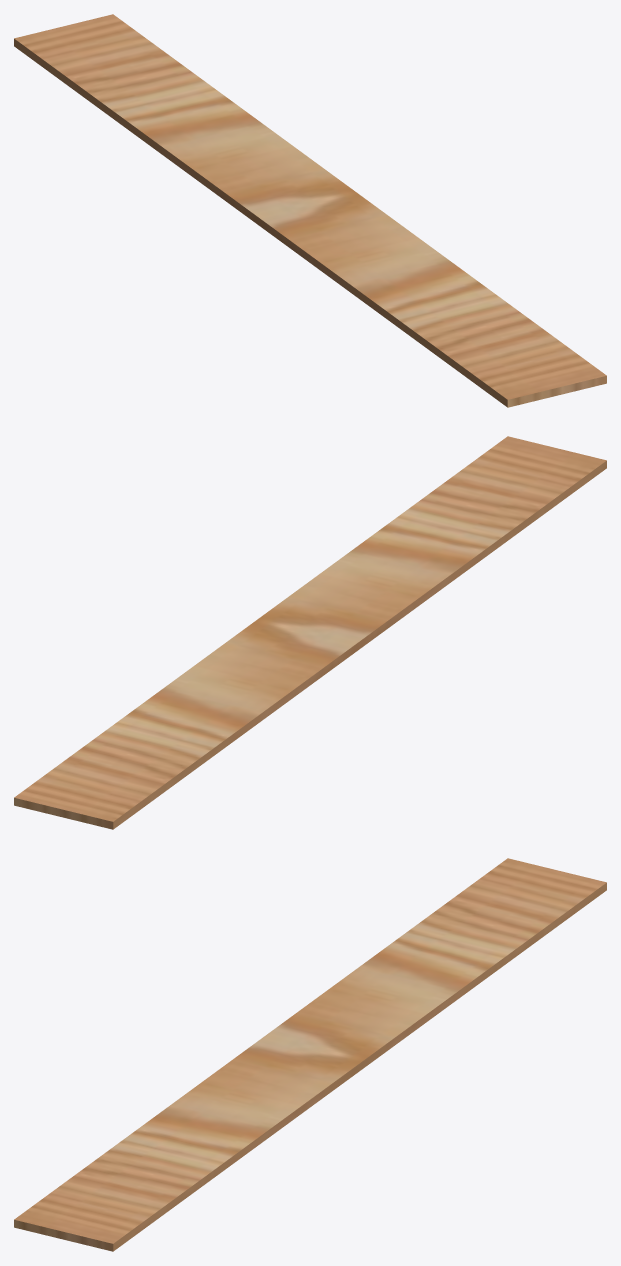
Rendered from tábua.fbx.
3 views of the same model, one above another, from view 1: azimuth 30°, elevation 25°; view 2: azimuth 150°, elevation 25°; view 3: azimuth 330°, elevation 25° (orthographic).
Visible parts, largest first — view 1: tábua; view 2: tábua; view 3: tábua.
Boxes of the visible parts, x1,y1,x2,y2 form: tábua: (14, 14, 606, 407); tábua: (14, 436, 606, 829); tábua: (14, 858, 606, 1251).
Size of the model in its own units: 13.18 by 114 by 1.
Materials: 1 (1 with a texture image).
